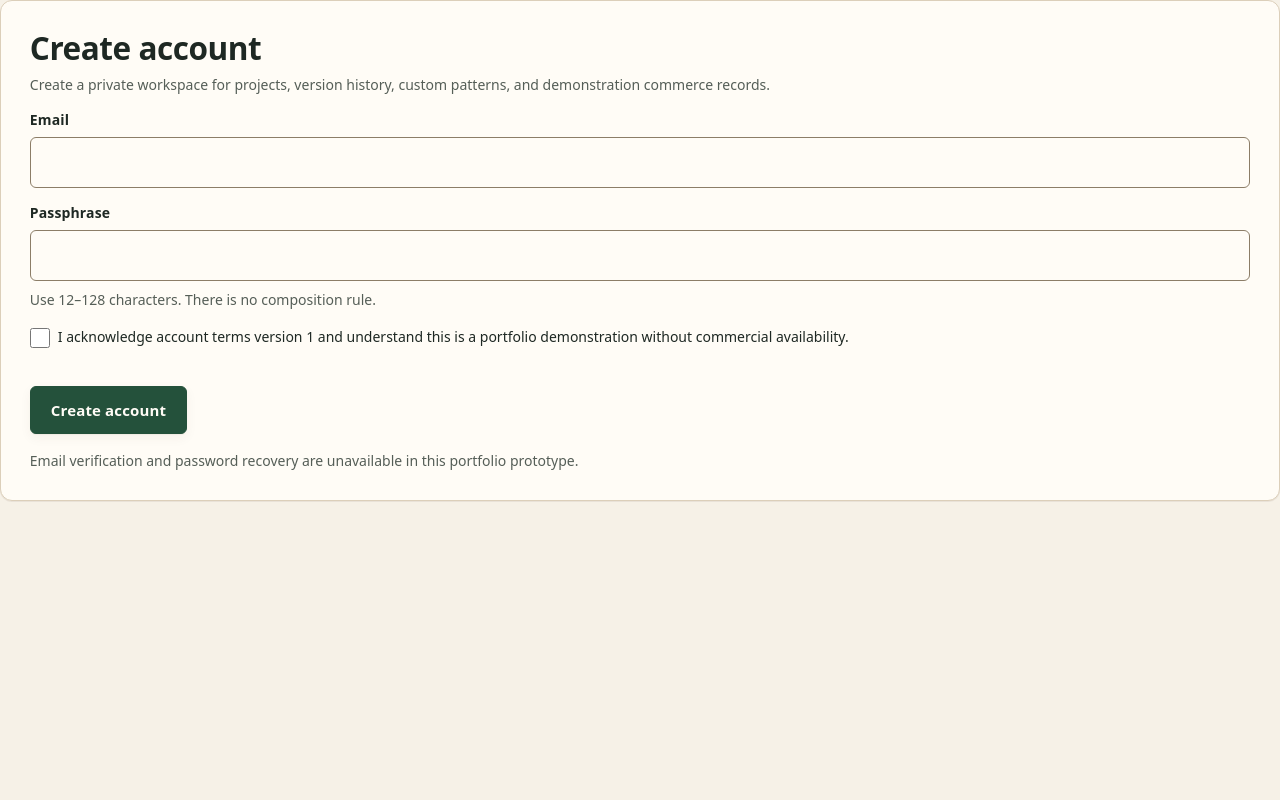
Scenario: a rejected terms acknowledgement says the account exists and stores no session
In the field named "email": coordinates (640, 162) [30,136,1250,188], type "new@example.invalid"
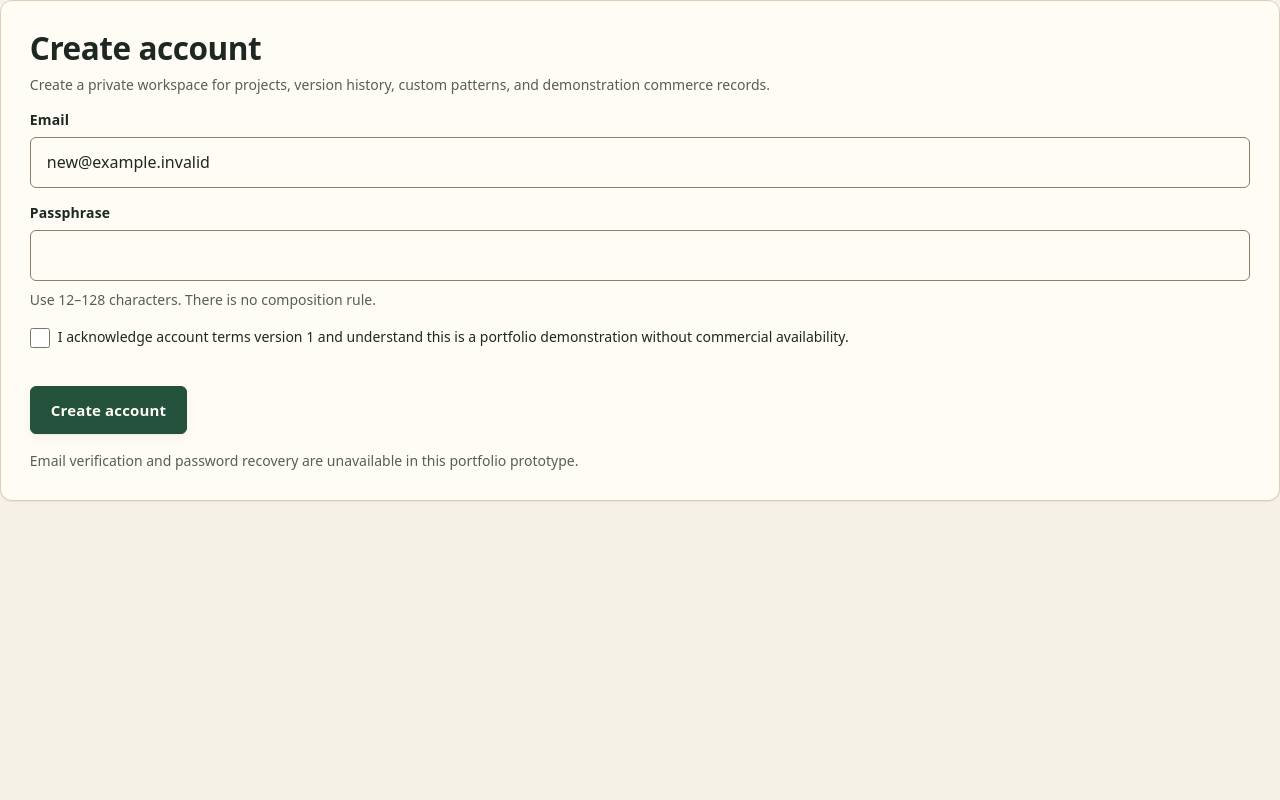
In the password field named "password": coordinates (640, 255) [30,230,1250,281], type "correct horse battery staple"
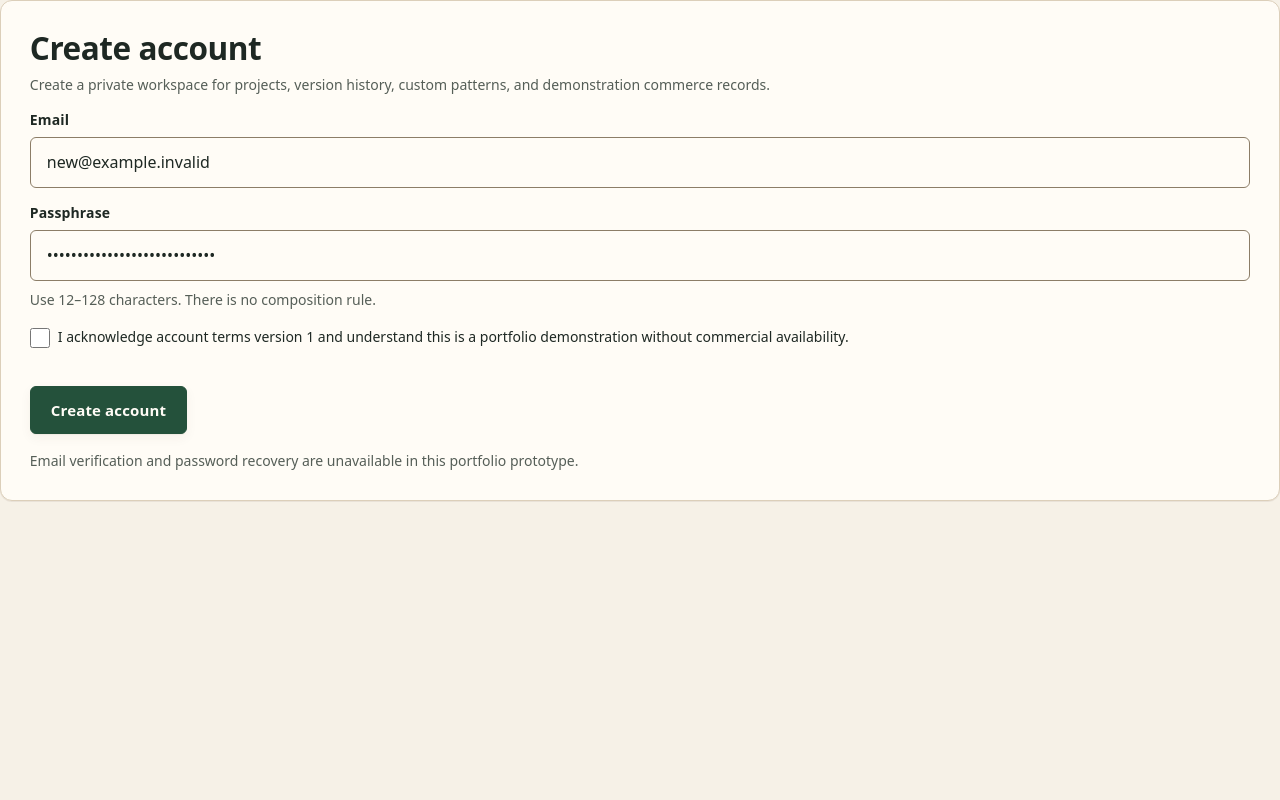
Click the checkbox named "acceptedTerms": coordinates (40, 338) [30,328,50,348]
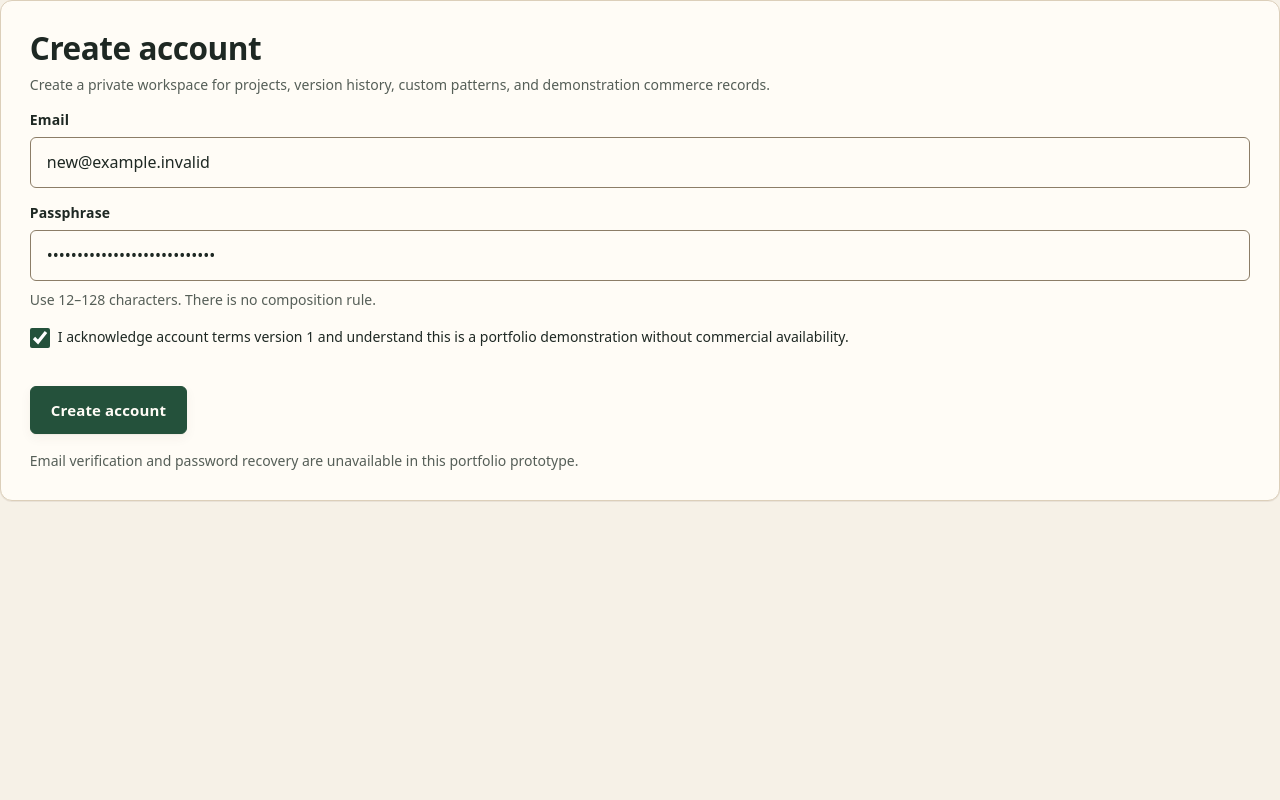
Submit the form
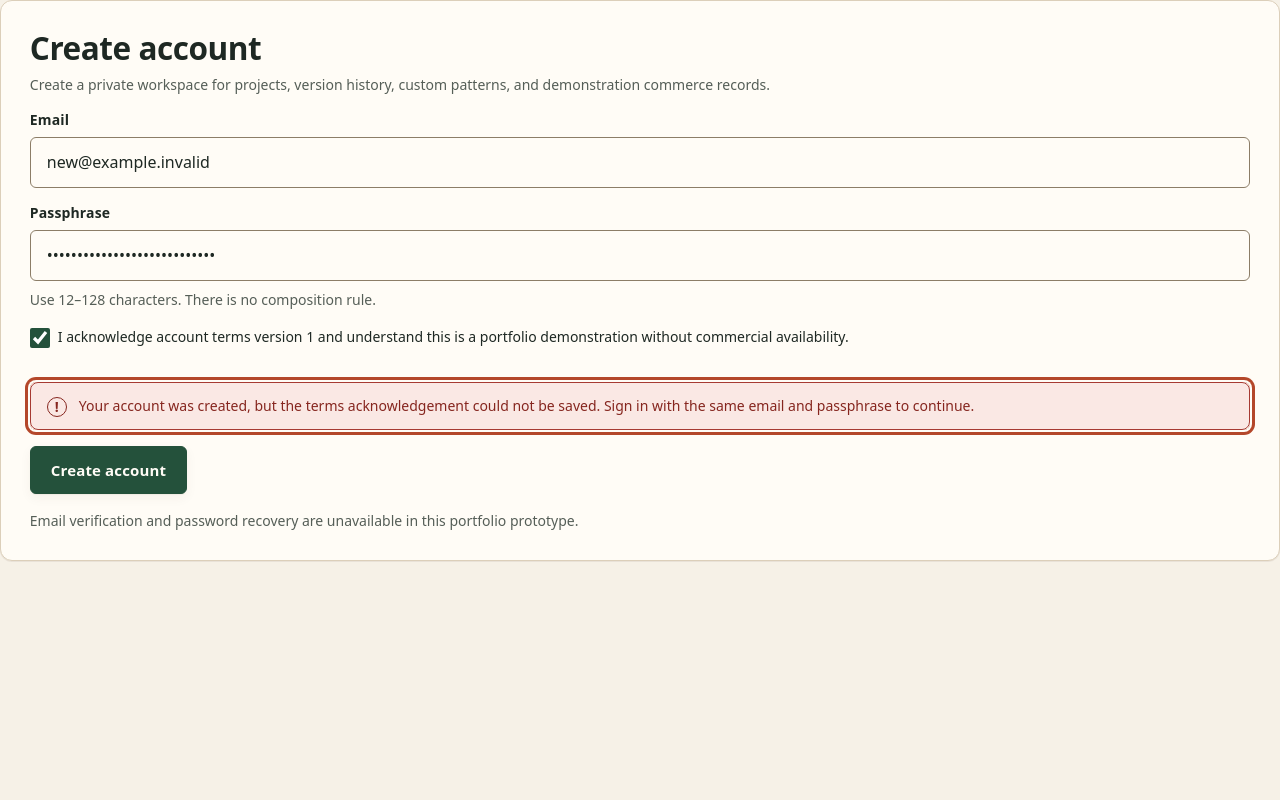
expect the message shows "account was created, but the terms acknowledgement could not be saved": met, box [79,396,974,415]
